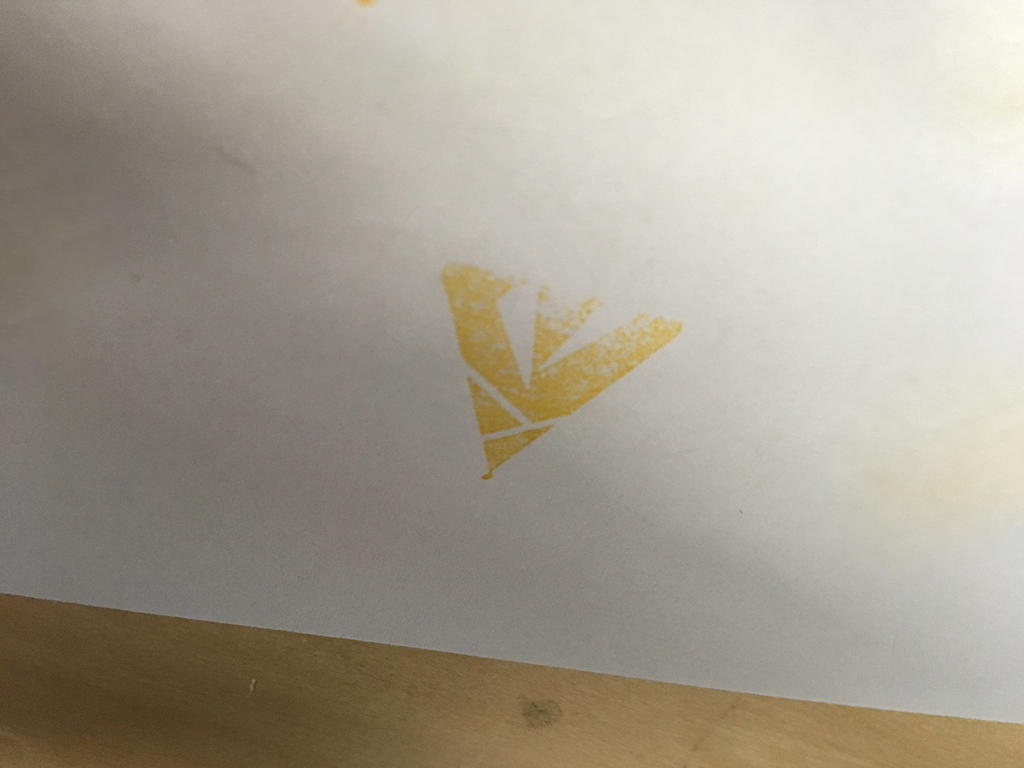tent: (428, 249, 694, 506)
